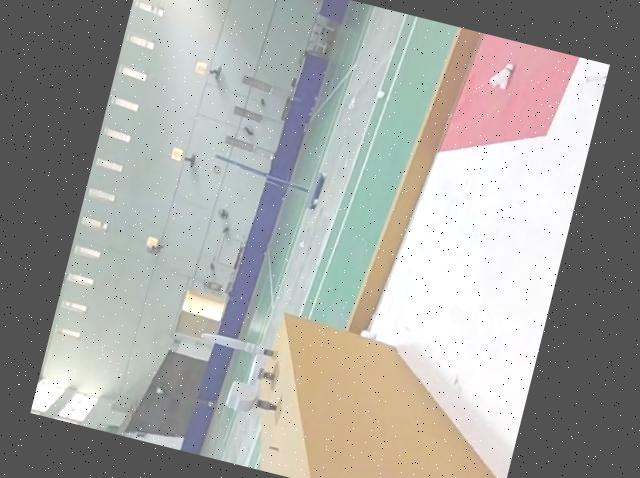Fist: (224, 376, 282, 421)
Hand: (247, 355, 281, 392)
Sph: (198, 326, 281, 365)
